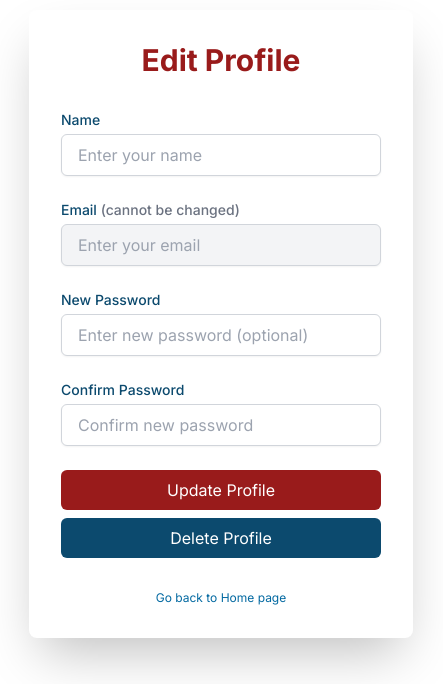
Profile Component › displays error message if passwords do not match
Type "password123" into the password field labelled "New Password" at (221, 335), box [61,314,381,356]
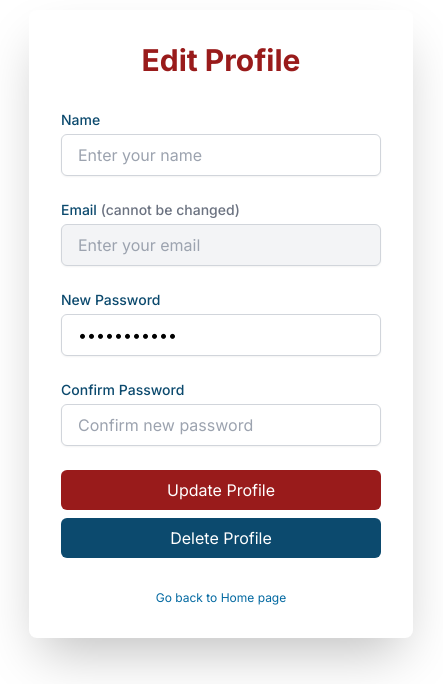
Type "differentpassword" into the password field labelled "Confirm Password" at (221, 425), box [61,404,381,446]
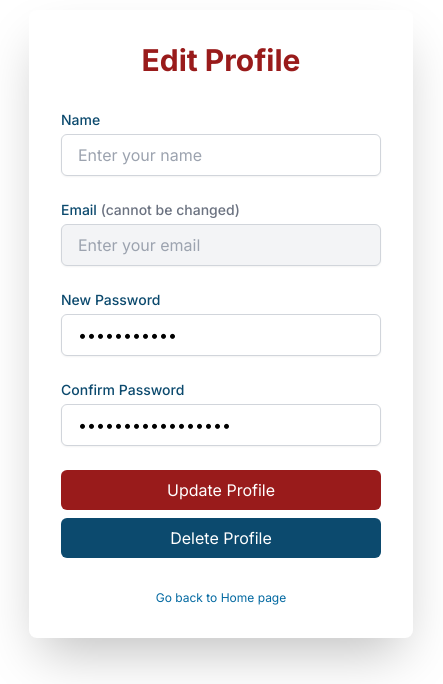
Click the button "Update Profile" at (221, 490), box [61,470,381,510]
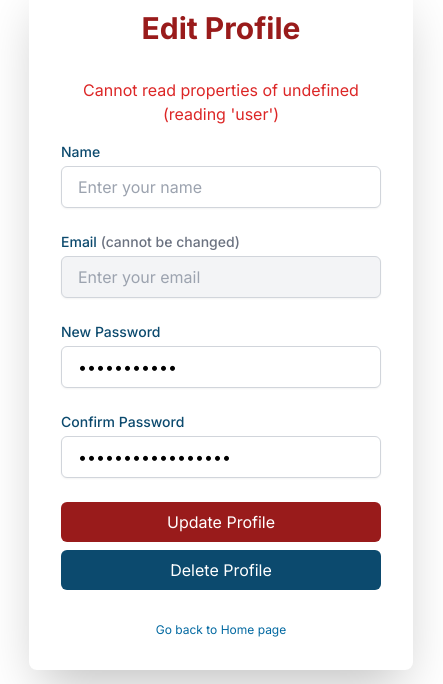
Check: the text "Passwords do not match" is shown, box [61,78,381,126]
